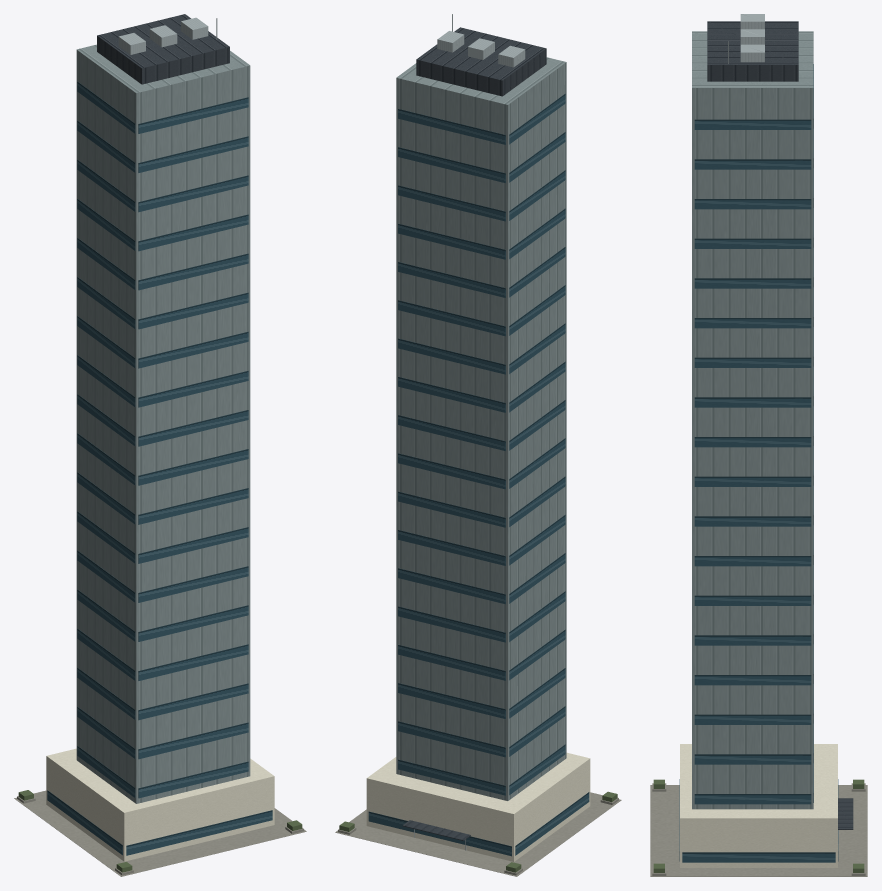
File: office_tower_002.lod1.obj
3 renders of one model, left to right at view 1: azimuth 30°, elevation 25°; view 2: azimuth 150°, elevation 25°; view 3: azimuth 270°, elevation 25°, orthographic. The views are drawn at different scales.
Parts seen in each view (by area): view 1: office_tower_002.lod1; view 2: office_tower_002.lod1; view 3: office_tower_002.lod1.
Boxes of the visible parts, x1,y1,x2,y2 form: office_tower_002.lod1: (14,14,306,876); office_tower_002.lod1: (335,14,621,876); office_tower_002.lod1: (650,14,867,876).
Size of the model in its own units: 35.8 by 147 by 35.8.
1 material, 1 textured.
